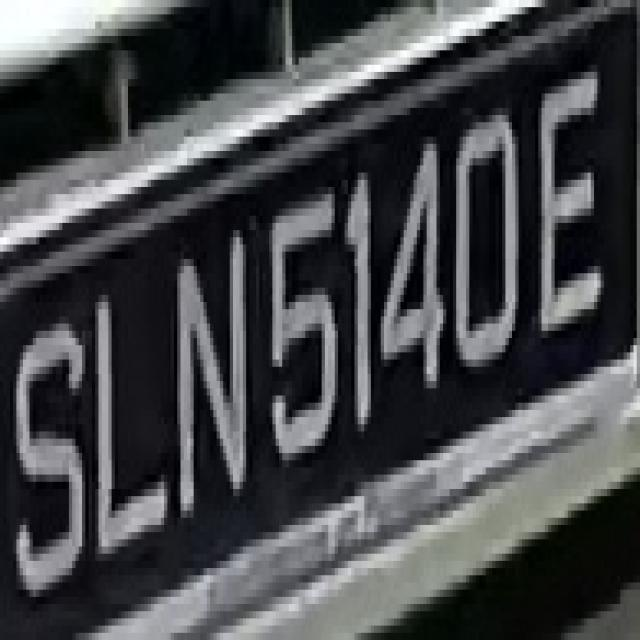0: (440, 72, 515, 388)
1: (344, 137, 378, 460)
4: (368, 122, 450, 439)
5: (272, 172, 342, 474)
E: (532, 51, 604, 360)
L: (82, 245, 171, 568)
N: (164, 230, 256, 539)
S: (16, 281, 86, 618)
